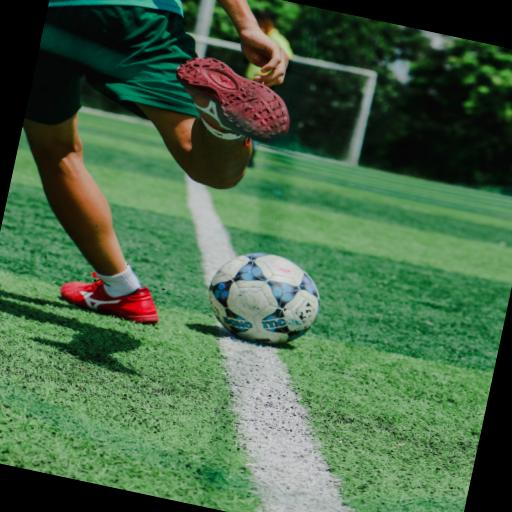shoe: (176, 58, 288, 142), (60, 280, 157, 323)
